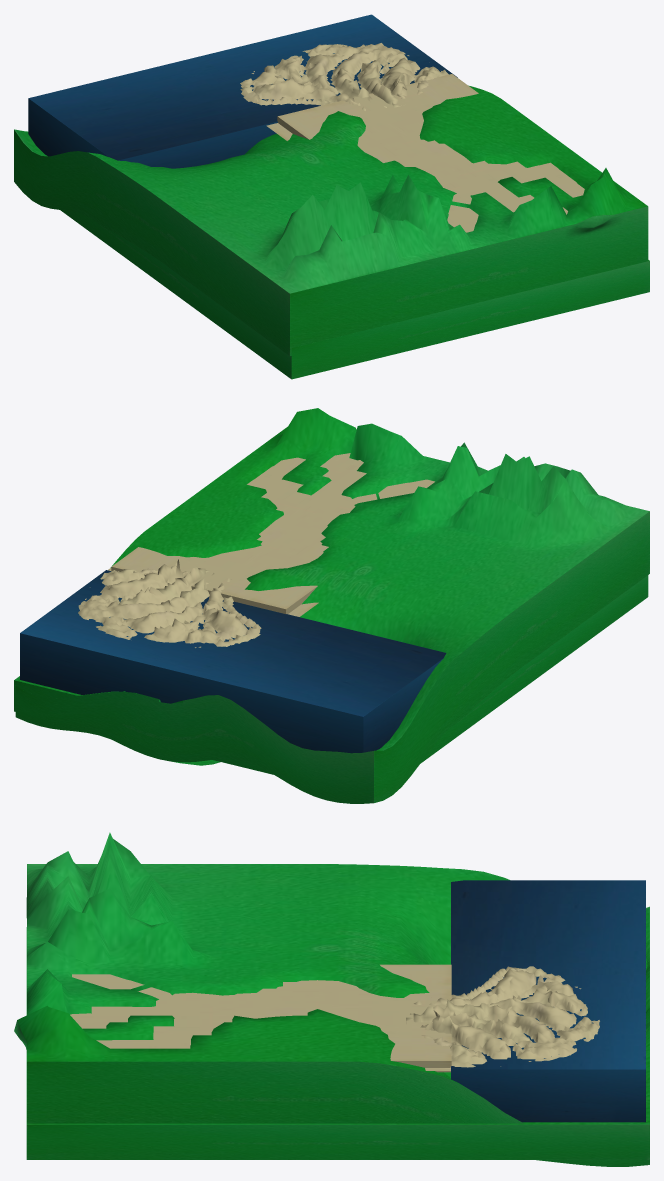
File: 扇形三角洲.gltf
3 renders of one model, top to bottom at view 1: azimuth 30°, elevation 25°; view 2: azimuth 150°, elevation 25°; view 3: azimuth 270°, elevation 25°, orthographic. The views are drawn at different scales.
Visible parts, largest first — view 1: node_Box002_-5712, node_Box005_-5716, node_Box003_-5714, node_Box006_-5718, node_Plane005_-5722; view 2: node_Box002_-5712, node_Box005_-5716, node_Box006_-5718, node_Plane005_-5722, node_Box003_-5714; view 3: node_Box002_-5712, node_Box005_-5716, node_Box003_-5714, node_Box006_-5718, node_Plane005_-5722.
Boxes of the visible parts, box(x1,y1,x2,y2) form: node_Box002_-5712: box(14, 85, 648, 355); node_Box005_-5716: box(28, 14, 457, 168); node_Box003_-5714: box(60, 210, 649, 379); node_Box006_-5718: box(277, 74, 584, 232); node_Plane005_-5722: box(240, 43, 448, 140); node_Box002_-5712: box(15, 408, 649, 803); node_Box005_-5716: box(20, 570, 446, 753); node_Box006_-5718: box(111, 453, 434, 614); node_Plane005_-5722: box(78, 559, 318, 647); node_Box003_-5714: box(14, 575, 648, 774); node_Box002_-5712: box(14, 832, 649, 1166); node_Box005_-5716: box(451, 880, 645, 1122); node_Box003_-5714: box(26, 927, 649, 1159); node_Box006_-5718: box(70, 964, 451, 1072); node_Plane005_-5722: box(406, 966, 599, 1070).
Size of the model in its own units: 1.53 by 0.7374 by 2.07.
